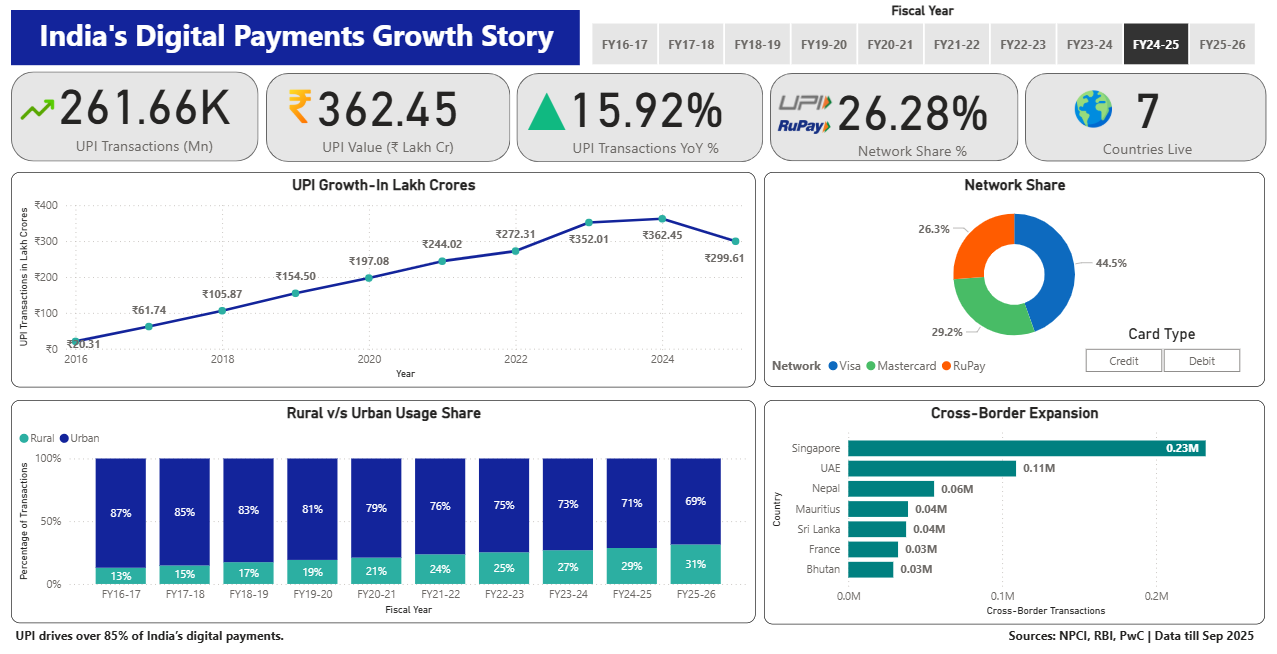

The dashboard page shown, as its layout file describes it:
{"tool":"powerbi","page":{"name":"Page 1","canvas":[1420,730],"ordinal":0},"visuals":[{"type":"shape","box":[1140,83.3,268.3,98.3],"z":0},{"type":"shape","box":[856,83,276,98],"z":1000},{"type":"shape","box":[575,83,274,99],"z":2000},{"type":"card","fields":{"Values":["CrossBorder_Summary.Countries Live (as of FY)"]},"box":[1166.1,76.7,218.3,103.3],"z":3000,"group":"g4"},{"type":"shape","box":[296.6,82.6,271.5,98.9],"z":3000},{"type":"card","fields":{"Values":["UPI_Monthly.UPI Txns (Mn)"]},"box":[33.4,72.2,255.7,105.7],"z":4000,"group":"g1"},{"type":"shape","box":[13,82,275,100],"z":4000},{"type":"donutChart","title":"Network Share","fields":{"Category":["Network_Monthly.Network"],"Y":["Network_Monthly.Network Share %"]},"box":[850,193.3,556.7,238.3],"z":5000},{"type":"card","fields":{"Values":["UPI_Monthly.UPI Value (₹ Lakh Cr)"]},"box":[299.9,72.4,264,108.7],"z":6000,"group":"g2"},{"type":"textbox","box":[13.3,693.3,1395,36.7],"z":6000},{"type":"lineChart","title":"UPI Growth-In Lakh Crores","fields":{"Category":["UPI_Annual.Year"],"Y":["Sum(UPI_Annual.UPI_Value_LakhCr)"]},"box":[12.9,192.6,827.4,239.6],"z":7000},{"type":"card","fields":{"Values":["UPI_Monthly.UPI Txns YoY %"]},"box":[594,73,250,108],"z":8000,"group":"g3"},{"type":"hundredPercentStackedColumnChart","title":"Rural v/s Urban Usage Share","fields":{"Category":["DimDate.Fiscal Year"],"Series":["RuralUrban_Monthly.Region"],"Y":["Sum(RuralUrban_Monthly.UPI_Transactions_Mn)"]},"box":[12.9,446.8,827.4,247.7],"z":8000},{"type":"barChart","title":"Cross-Border Expansion","fields":{"Y":["CrossBorder_Monthly.Cross-Border Txns (Mn)"],"Category":["CrossBorder_Monthly.Country"]},"box":[850,446.4,556.4,249.1],"z":9000},{"type":"slicer","title":"Fiscal Year","fields":{"Values":["DimDate.Fiscal Year"]},"box":[634,5.8,786,75.7],"z":10000},{"type":"card","fields":{"Values":["Network_Monthly.Network Share %"]},"box":[903.2,78.2,222.8,104.8],"z":11000,"group":"g5"},{"type":"slicer","title":"Card Type","fields":{"Values":["Network_Monthly.Card_Type"]},"box":[1181.9,363.9,221.2,56.8],"z":11000},{"type":"group","id":"g1","title":"Group 1","box":[15.7,72.2,273.4,105.7],"z":12000},{"type":"group","id":"g2","title":"Group 2","box":[299.9,72.4,263.5,109.2],"z":13000},{"type":"image","box":[1189.4,96.7,51.7,53.3],"z":13000,"group":"g4"},{"type":"group","id":"g3","title":"Group 3","box":[570.7,73,273.3,108],"z":14000},{"type":"image","box":[860.4,115.7,68.9,56.1],"z":14000,"group":"g5"},{"type":"group","id":"g4","title":"Group 5","box":[1166.1,76.7,218.3,103.3],"z":15000},{"type":"image","box":[307.3,92.6,55.7,57.5],"z":15000,"group":"g2"},{"type":"textbox","box":[13.1,13.1,631.7,61.1],"z":16000},{"type":"image","box":[842.7,93.6,105.5,45.5],"z":17000},{"type":"group","id":"g5","title":"Group 4","box":[860.4,78.2,265.6,104.8],"z":18000},{"type":"image","box":[15.7,88,55,71.7],"z":18000,"group":"g1"},{"type":"card","fields":{"Values":["UPI_Monthly.YoY Arrow"]},"box":[570.7,84.7,76.7,70],"z":19001,"group":"g3"}]}

Visuals, with their boxes in screenshot pixels (x1, y1, x2, y2), scaled from the page's 1420x730 canvas onto the 1277x654 screenshot:
shape: (1025,75,1266,163)
shape: (770,74,1018,162)
shape: (517,74,764,163)
card - CrossBorder_Summary.Countries Live (as of FY): (1049,69,1245,161)
shape: (267,74,511,163)
card - UPI_Monthly.UPI Txns (Mn): (30,65,260,159)
shape: (12,73,259,163)
"Network Share" donutChart: (764,173,1265,387)
card - UPI_Monthly.UPI Value (₹ Lakh Cr): (270,65,507,162)
textbox: (12,621,1266,653)
"UPI Growth-In Lakh Crores" lineChart: (12,173,756,387)
card - UPI_Monthly.UPI Txns YoY %: (534,65,759,162)
"Rural v/s Urban Usage Share" hundredPercentStackedColumnChart: (12,400,756,622)
"Cross-Border Expansion" barChart: (764,400,1265,623)
"Fiscal Year" slicer: (570,5,1276,73)
card - Network_Monthly.Network Share %: (812,70,1013,164)
"Card Type" slicer: (1063,326,1262,377)
"Group 1" group: (14,65,260,159)
"Group 2" group: (270,65,507,163)
image: (1070,87,1116,134)
"Group 3" group: (513,65,759,162)
image: (774,104,836,154)
"Group 5" group: (1049,69,1245,161)
image: (276,83,326,134)
textbox: (12,12,580,66)
image: (758,84,853,125)
"Group 4" group: (774,70,1013,164)
image: (14,79,64,143)
card - UPI_Monthly.YoY Arrow: (513,76,582,139)
